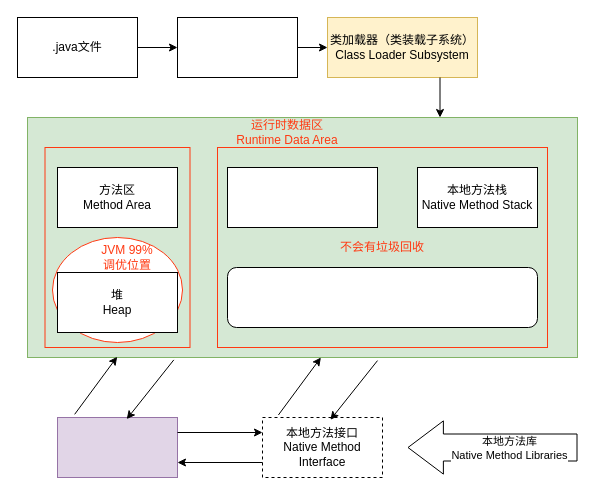
This 595x495 diagram has some shape labels left out. The shapes that lost their labels are listed below. From the top down, each one's centre as x and y in pixels, then its label:
(x=237, y=47): .class文件
(x=302, y=197): Java 栈（虚拟机栈） Java Virtual Machine Stack
(x=382, y=297): 程序计数器 Program Counter Register
(x=117, y=447): 执行引擎 Execution Engine
